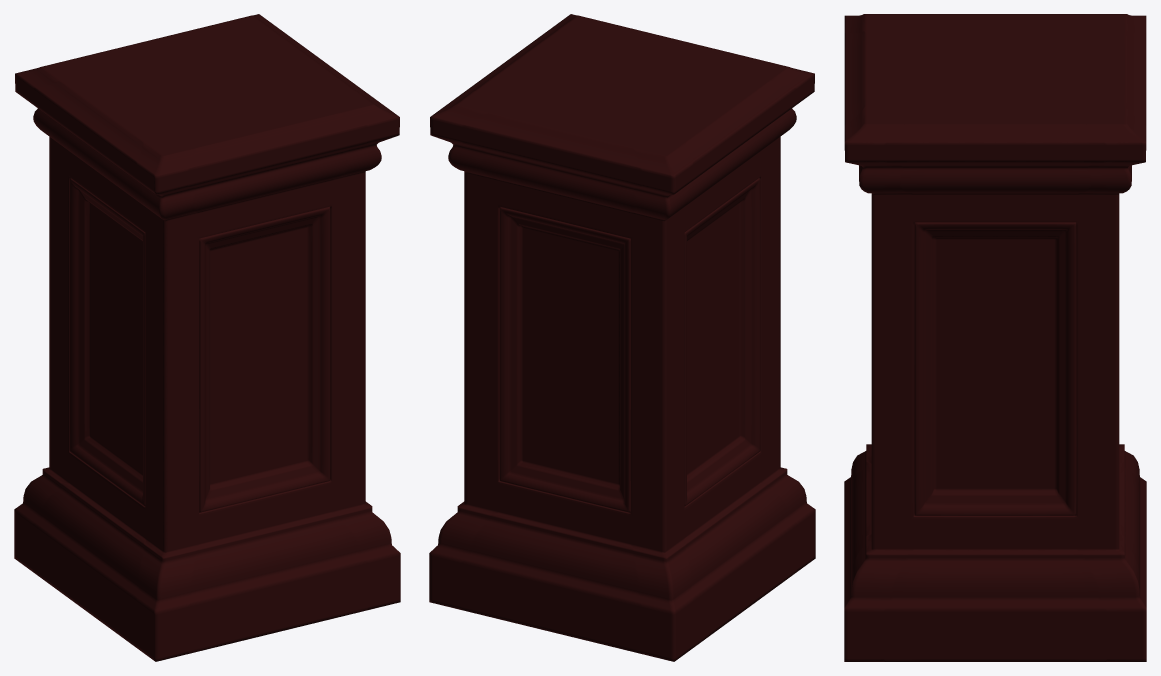
File: ornate_stone_pedestal_01.FBX
The picture shows the model from 3 angles, left to right: view 1: azimuth 30°, elevation 25°; view 2: azimuth 150°, elevation 25°; view 3: azimuth 270°, elevation 25°; orthographic projection. The views are drawn at different scales.
Visible parts, largest first — view 1: ornate_stone_pedestal_01; view 2: ornate_stone_pedestal_01; view 3: ornate_stone_pedestal_01.
Part boxes in pixels (left/top/right/bottom): ornate_stone_pedestal_01: left=14, top=14, right=400, bottom=661; ornate_stone_pedestal_01: left=429, top=14, right=815, bottom=661; ornate_stone_pedestal_01: left=844, top=14, right=1146, bottom=661.
Size of the model in its own units: 61.65 by 61.65 by 119.
